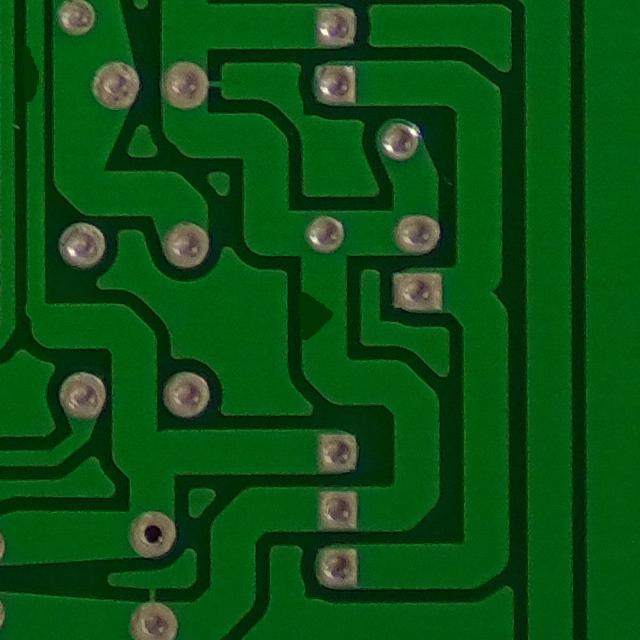mouse_bite: (289, 267, 351, 373)
